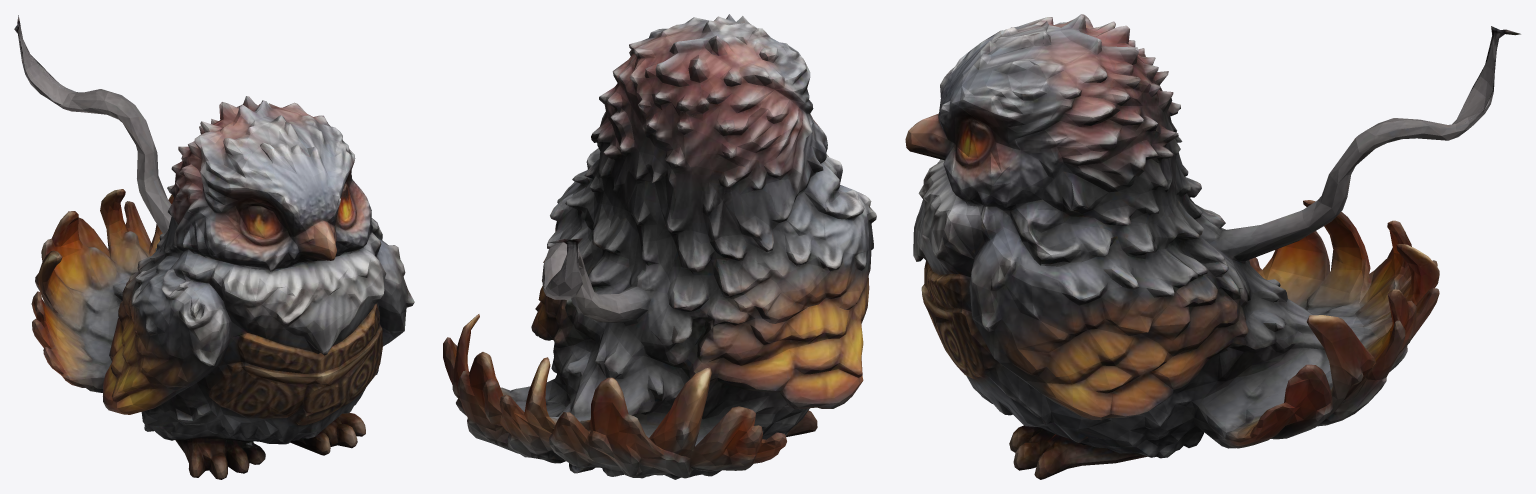
Rendered from smokePhoenixChick.glb.
3 views of the same model, side by side, from view 1: azimuth 30°, elevation 25°; view 2: azimuth 150°, elevation 25°; view 3: azimuth 270°, elevation 25° (orthographic). The views are drawn at different scales.
Parts seen in each view (by area): view 1: world; view 2: world; view 3: world.
Part boxes in pixels (<box>): world: <box>14,15,414,479</box>; world: <box>443,14,876,479</box>; world: <box>905,14,1520,479</box>.
Size of the model in its own units: 0.6157 by 0.726 by 0.995.
1 material, 1 textured.
